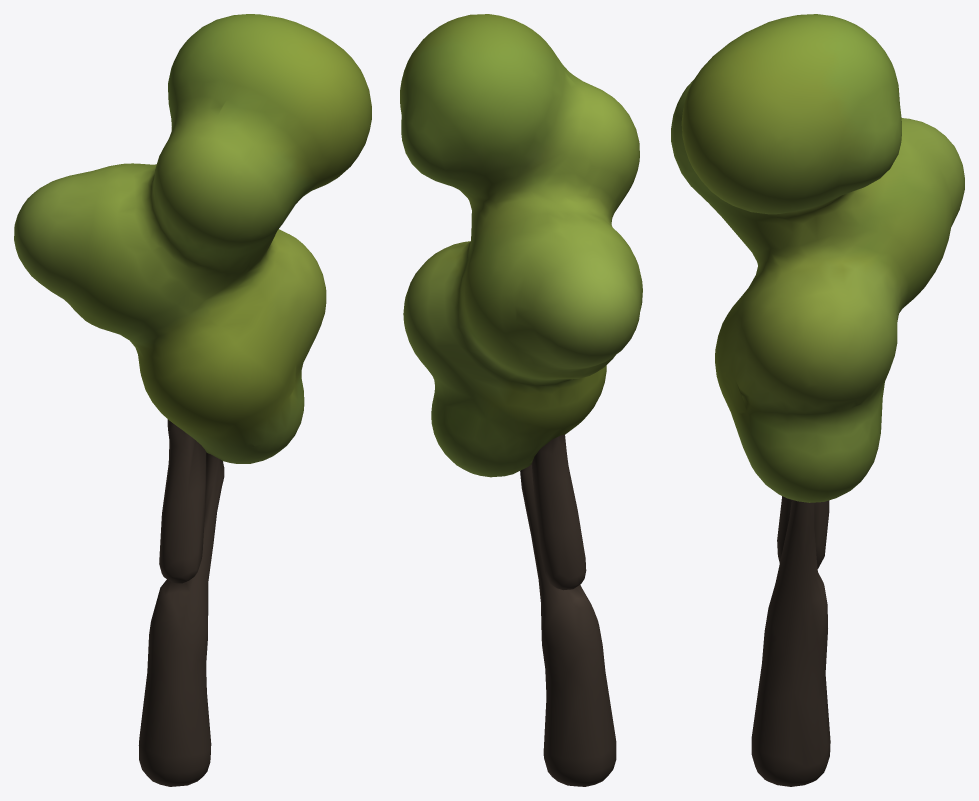
The model's file is tree_11_3.glb.
3 views of the same model, side by side, from view 1: azimuth 30°, elevation 25°; view 2: azimuth 150°, elevation 25°; view 3: azimuth 270°, elevation 25° (orthographic). The views are drawn at different scales.
Parts seen in each view (by area): view 1: canopy, bark; view 2: canopy, bark; view 3: canopy, bark.
Boxes of the visible parts, x1,y1,x2,y2 form: canopy: [14, 14, 371, 463]; bark: [138, 419, 224, 786]; canopy: [400, 14, 642, 477]; bark: [520, 434, 616, 786]; canopy: [671, 14, 964, 502]; bark: [751, 496, 830, 786].
Bounding box in the file's own units: 1.5 × 3.76 × 1.24.
